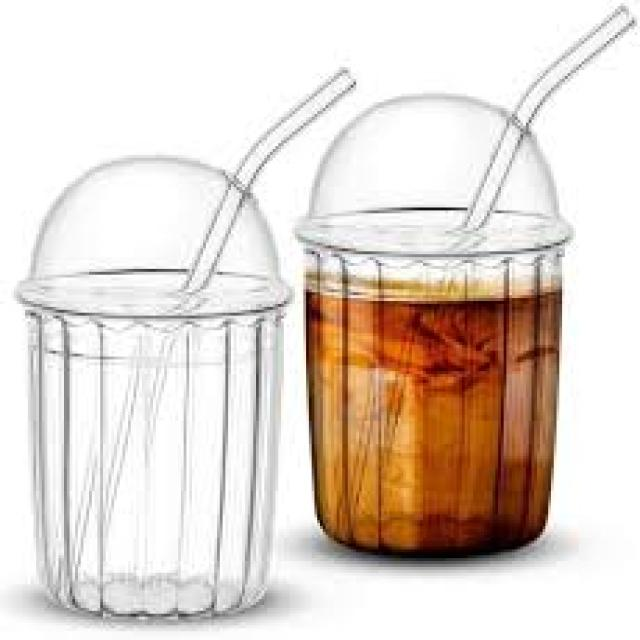bottle: (307, 249, 561, 555), (28, 311, 281, 616)
